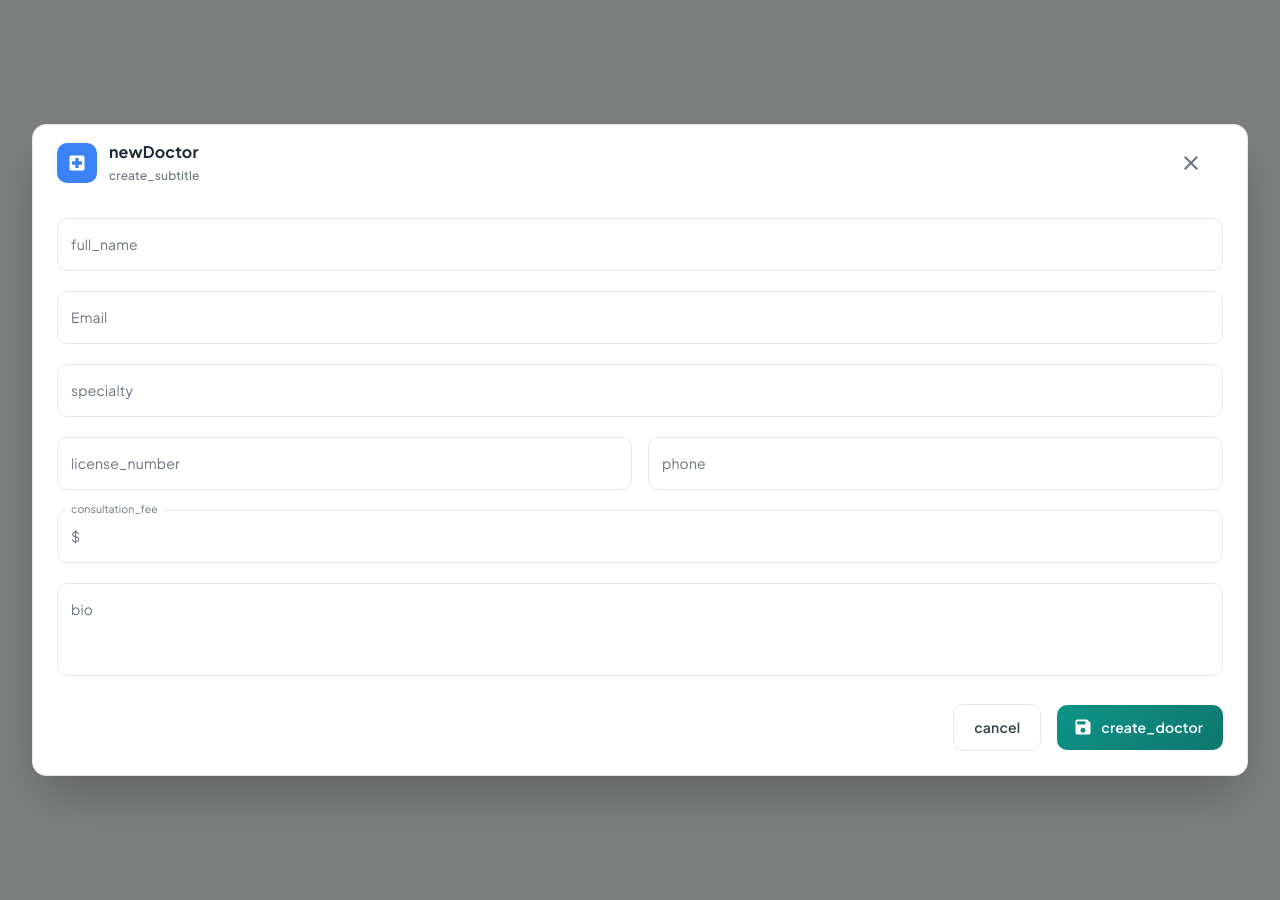
Test: DoctorFormDialog › shows validation errors and does not submit when invalid
Type "A" into the field labelled "full_name". click: [640, 244]
box: [57,218,1223,271]
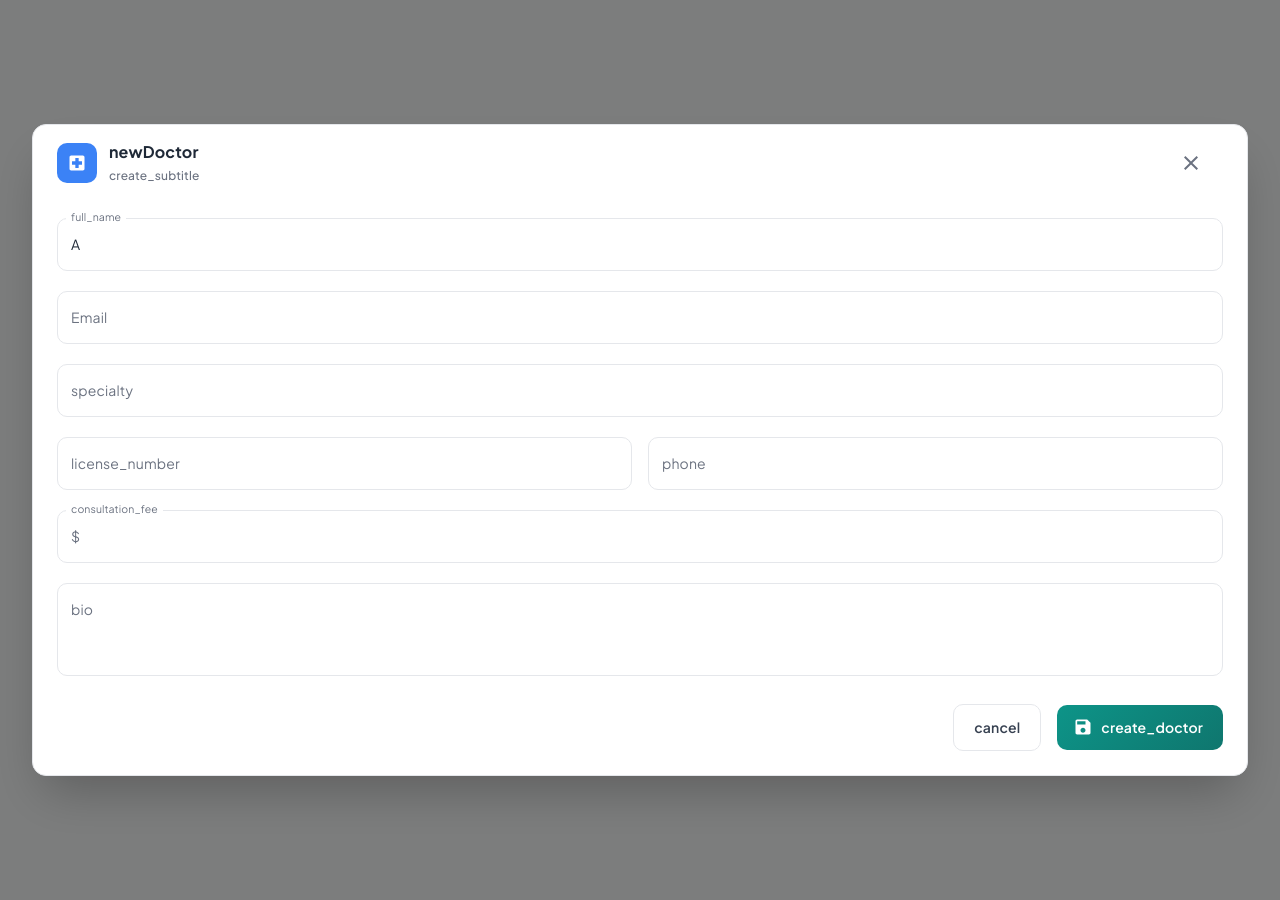
Click the button "create_doctor". click: [1140, 727]
box: [1057,705,1223,750]
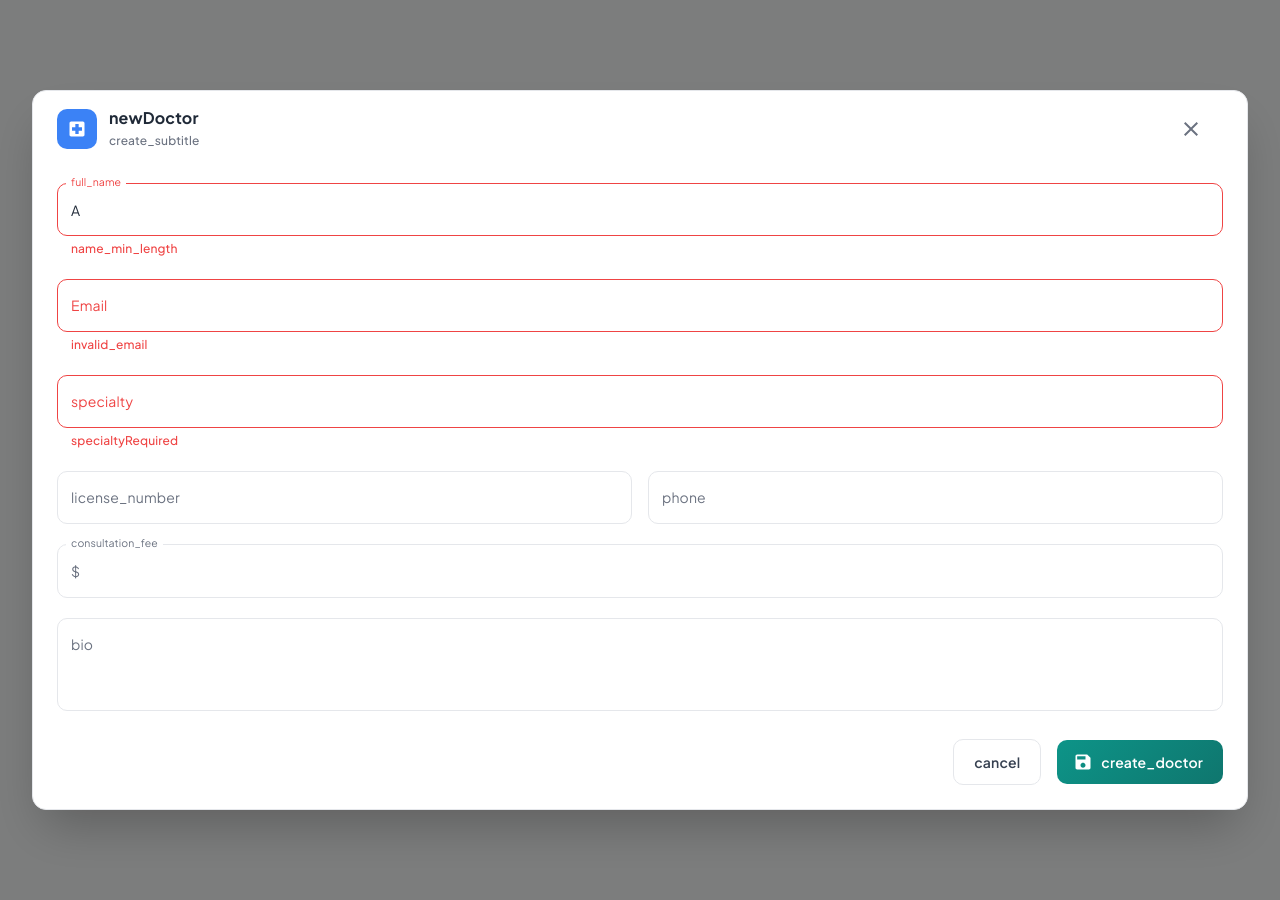
Now the text "name_min_length" is shown, box [71,241,178,256]
Now the text "invalid_email" is shown, box [71,337,148,352]
